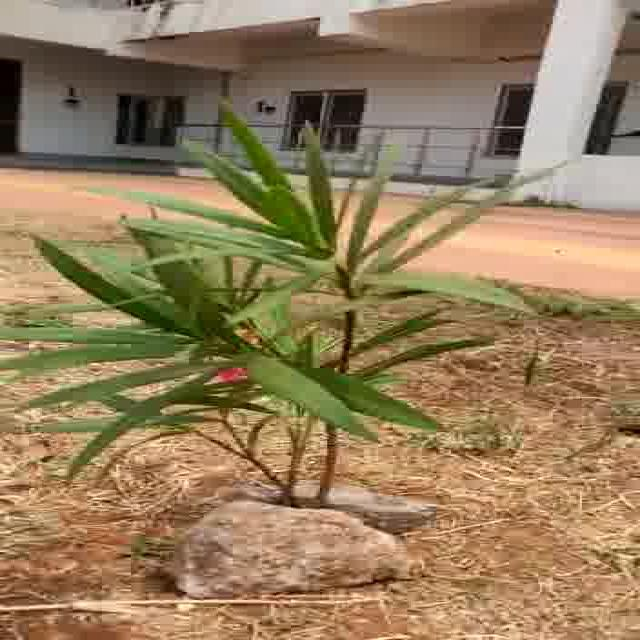OLEANDER: (49, 100, 543, 528)
